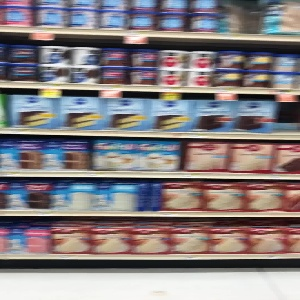void: (273, 96, 300, 135)
